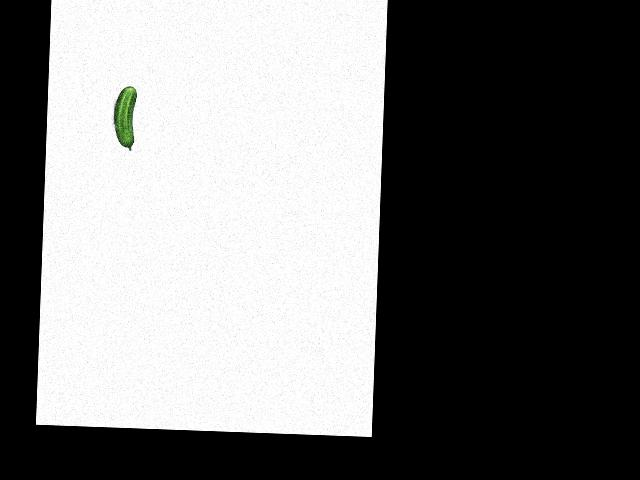cucumber: (112, 85, 136, 150)
